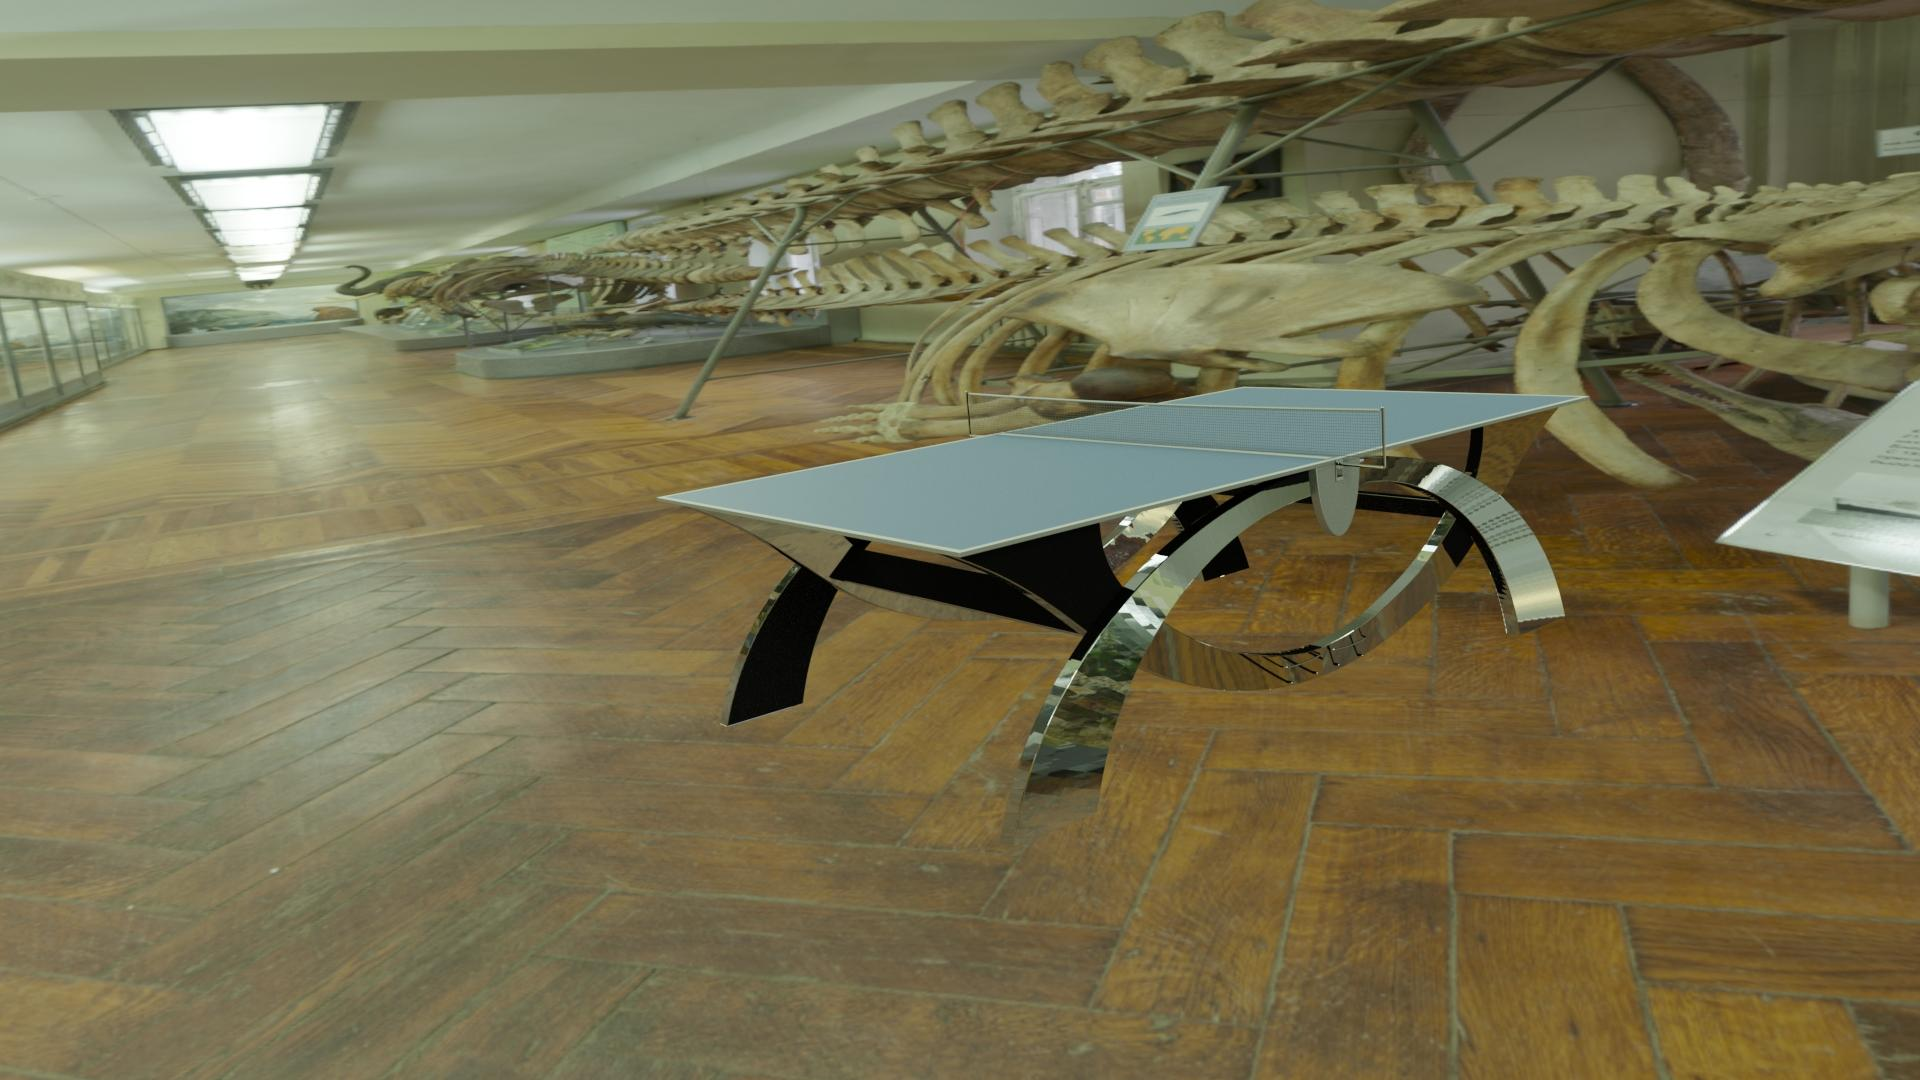table: (665, 388, 1581, 550)
